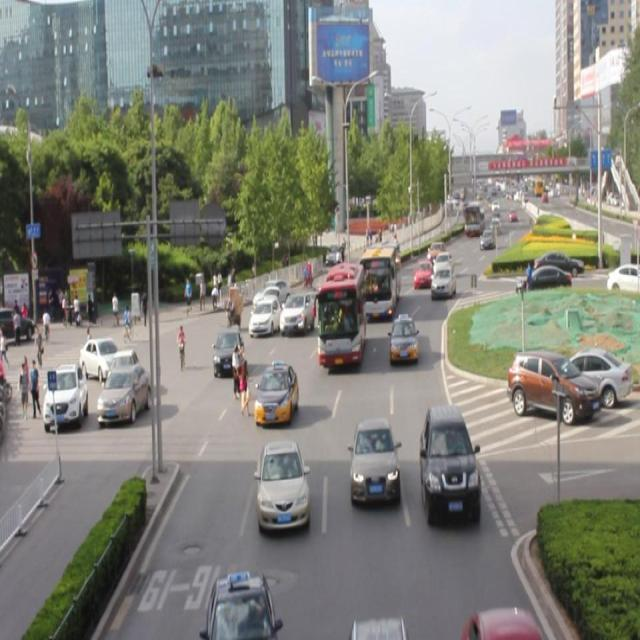car: (418, 405, 478, 515), (205, 570, 275, 640), (256, 442, 307, 532), (350, 419, 398, 502), (464, 603, 540, 640), (254, 363, 298, 423), (280, 286, 315, 336), (349, 611, 407, 640), (213, 325, 247, 373), (387, 314, 416, 364), (249, 293, 282, 334), (430, 260, 454, 298), (432, 252, 452, 280), (413, 257, 430, 287)
van: (317, 264, 363, 364), (361, 242, 398, 321)
